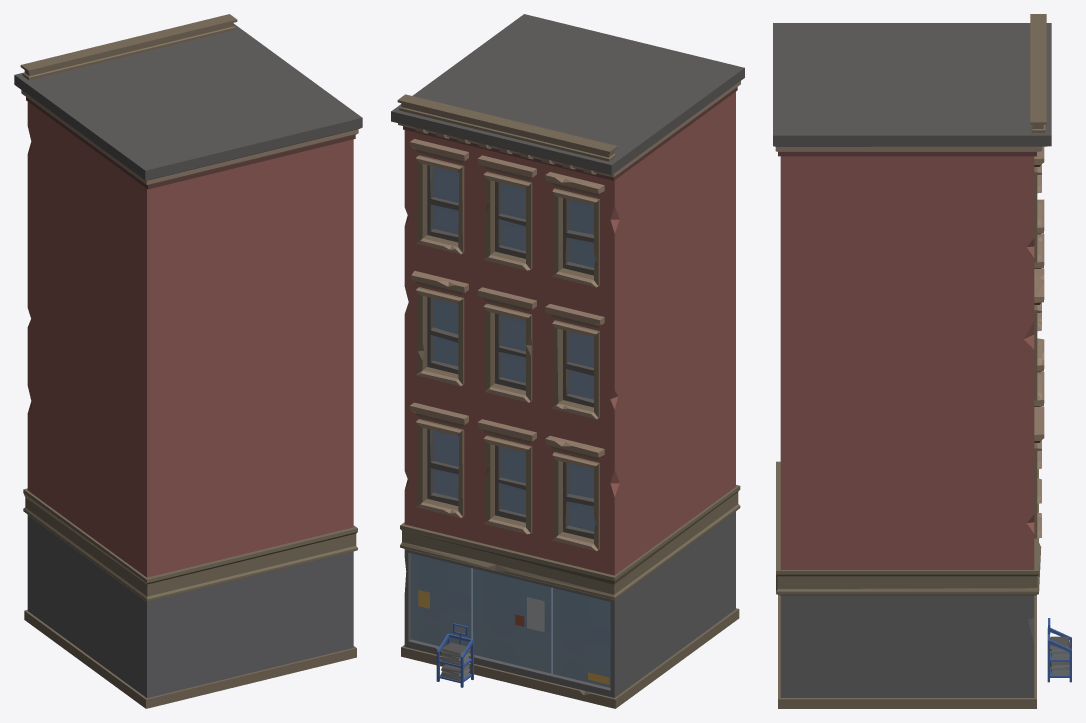
The model's file is v2-buildings-SM3D_Bld_Mixed_4fl.glb.
The picture shows the model from 3 angles, left to right: view 1: azimuth 30°, elevation 25°; view 2: azimuth 150°, elevation 25°; view 3: azimuth 270°, elevation 25°; orthographic projection. The views are drawn at different scales.
Visible parts, largest first — view 1: SM3D_Bld_Mixed_4fl; view 2: SM3D_Bld_Mixed_4fl; view 3: SM3D_Bld_Mixed_4fl.
Boxes of the visible parts, x1,y1,x2,y2 form: SM3D_Bld_Mixed_4fl: (14, 14, 362, 708); SM3D_Bld_Mixed_4fl: (391, 14, 744, 708); SM3D_Bld_Mixed_4fl: (773, 14, 1071, 708).
Size of the model in its own units: 5.25 by 12.74 by 5.89.
1 material, 1 textured.
